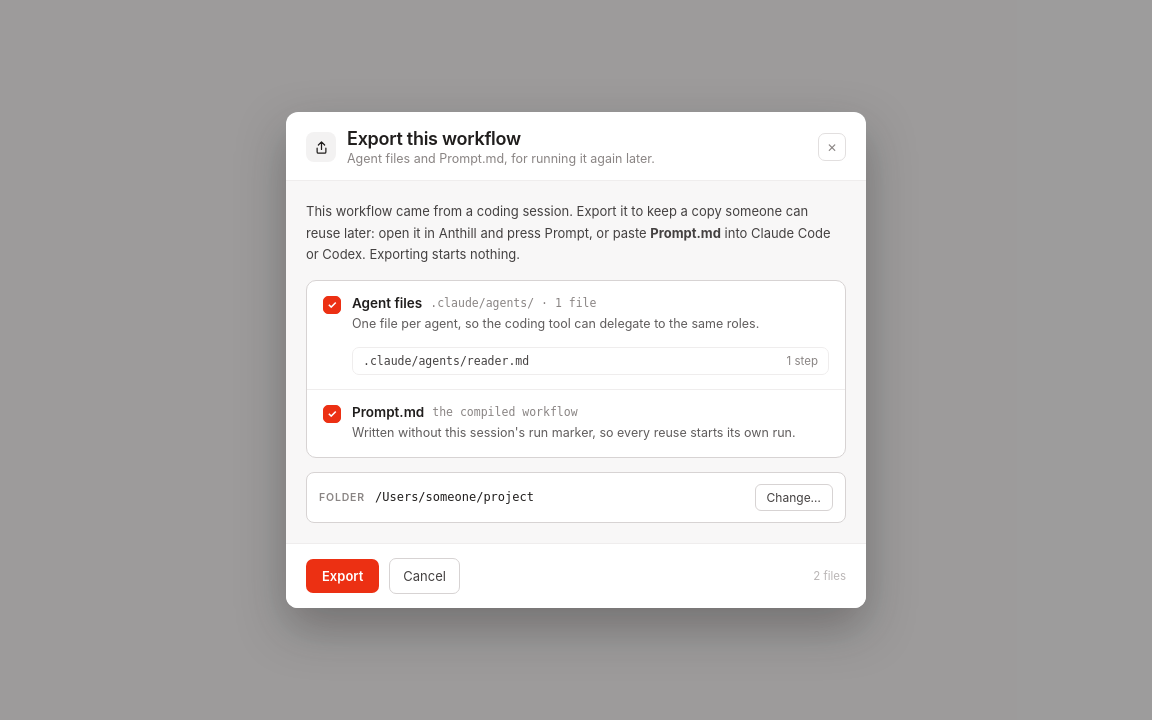
writes the agent files and a marker-free Prompt.md, and starts nothing
Expected: the heading "Export this workflow" is shown, [347,128,521,150]
Expected: the text ".claude/agents/reader.md" is shown, [363,354,529,368]
Step 1. Click the button "Export" → click(343, 576), box [306,558,379,592]
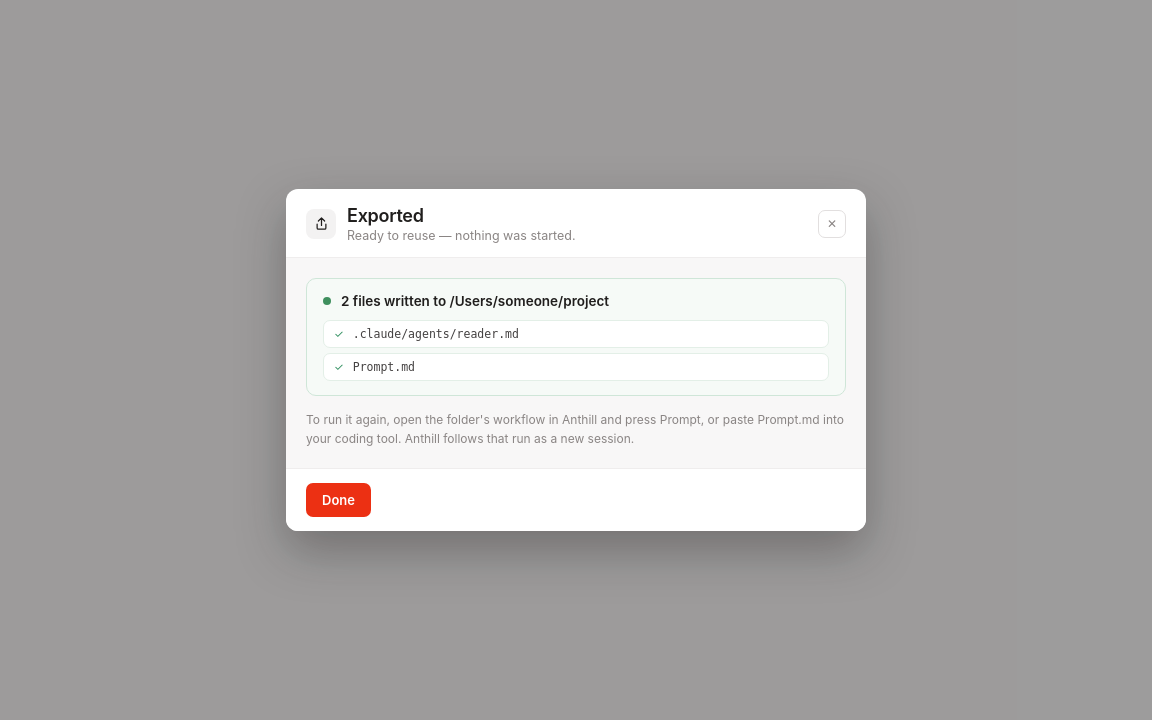
Expected: the heading "Exported" is shown, [347,205,424,226]
